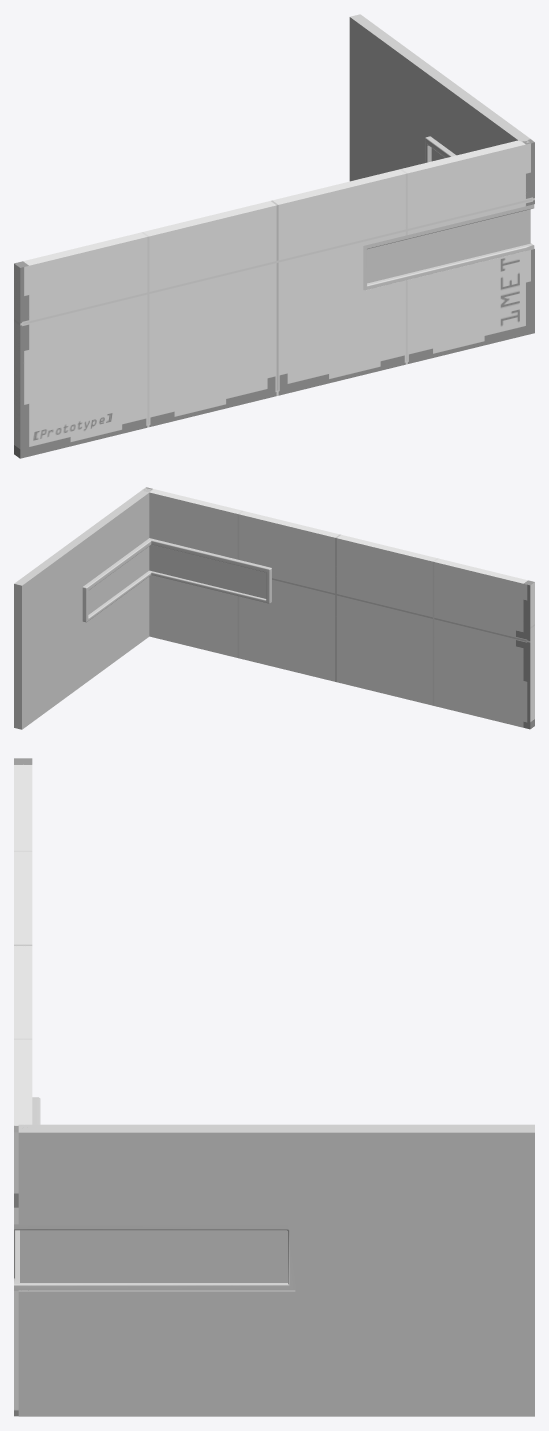
File: wall and stuff.fbx
3 renders of one model, top to bottom at view 1: azimuth 30°, elevation 25°; view 2: azimuth 150°, elevation 25°; view 3: azimuth 270°, elevation 25°, orthographic. The views are drawn at different scales.
Visible parts, largest first — view 1: WallL, WallB, window, Windowfram; view 2: WallL, WallB, window, Windowfram; view 3: WallB, window, WallL, Windowfram.
Part boxes in pixels (box(x1,y1,x2,y2)): WallL: box(14, 139, 534, 458); WallB: box(349, 14, 532, 181); window: box(367, 148, 530, 283); Windowfram: box(363, 136, 534, 290); WallL: box(144, 487, 534, 729); WallB: box(14, 488, 152, 729); window: box(88, 545, 266, 614); Windowfram: box(82, 538, 271, 622); WallB: box(18, 1124, 534, 1416); window: box(20, 1230, 287, 1282); WallL: box(14, 758, 32, 1416); Windowfram: box(14, 1097, 295, 1290).
Size of the model in its own units: 48.03 by 17 by 28.25.
Materials: 4 (1 with a texture image).
